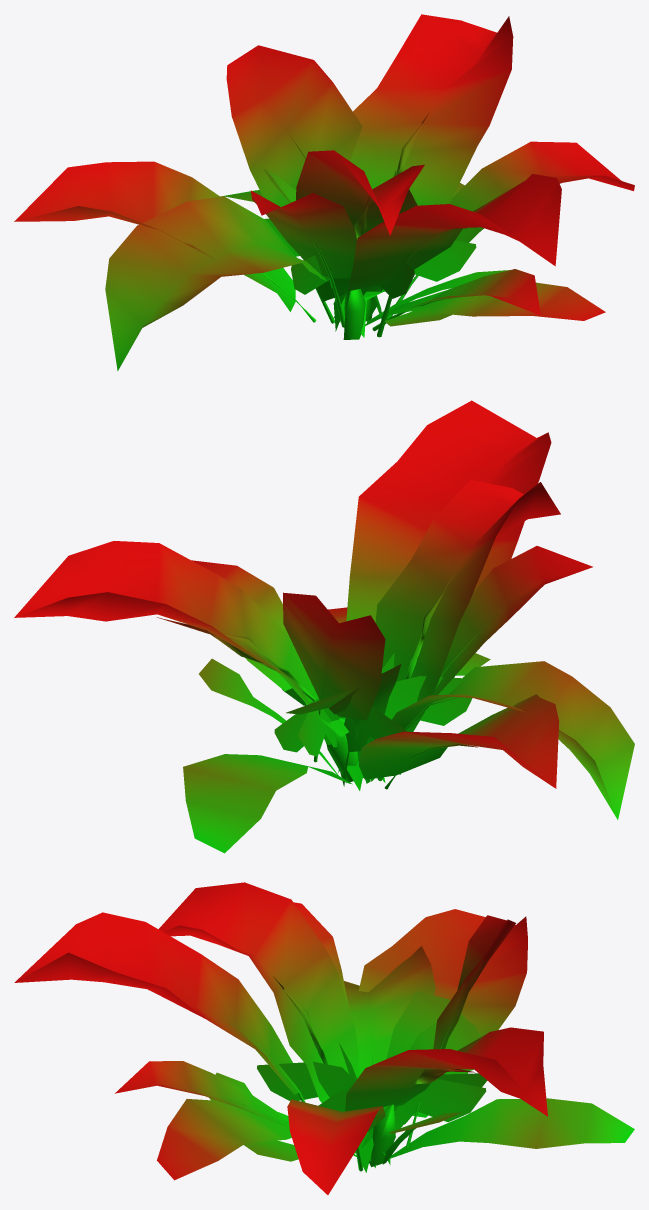
File: Lady Fern_LOD3_Var5_wdvlditia.fbx
3 renders of one model, top to bottom at view 1: azimuth 30°, elevation 25°; view 2: azimuth 150°, elevation 25°; view 3: azimuth 270°, elevation 25°, orthographic. The views are drawn at different scales.
Parts seen in each view (by area): view 1: _lma2_Var5_LOD3; view 2: _lma2_Var5_LOD3; view 3: _lma2_Var5_LOD3.
Boxes of the visible parts, <box> form: _lma2_Var5_LOD3: <box>14,14,634,370</box>; _lma2_Var5_LOD3: <box>14,400,634,853</box>; _lma2_Var5_LOD3: <box>14,882,634,1194</box>.
Bounding box in the file's own units: 63.76 × 28.82 × 68.
